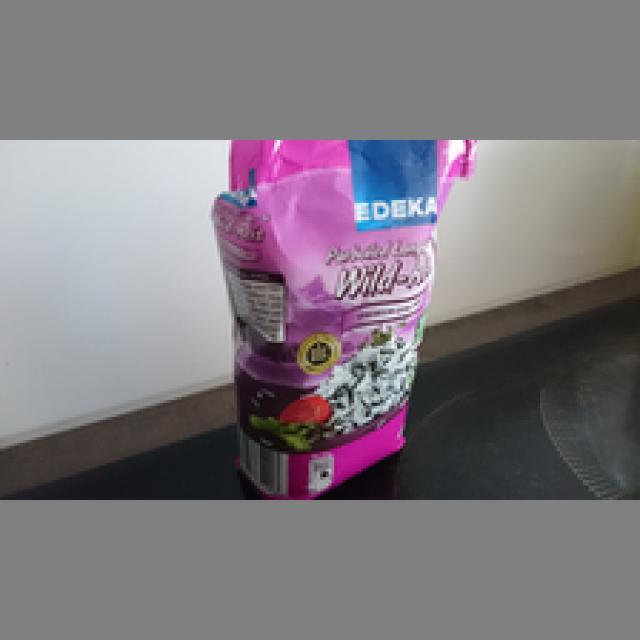groceries: (206, 137, 477, 494)
